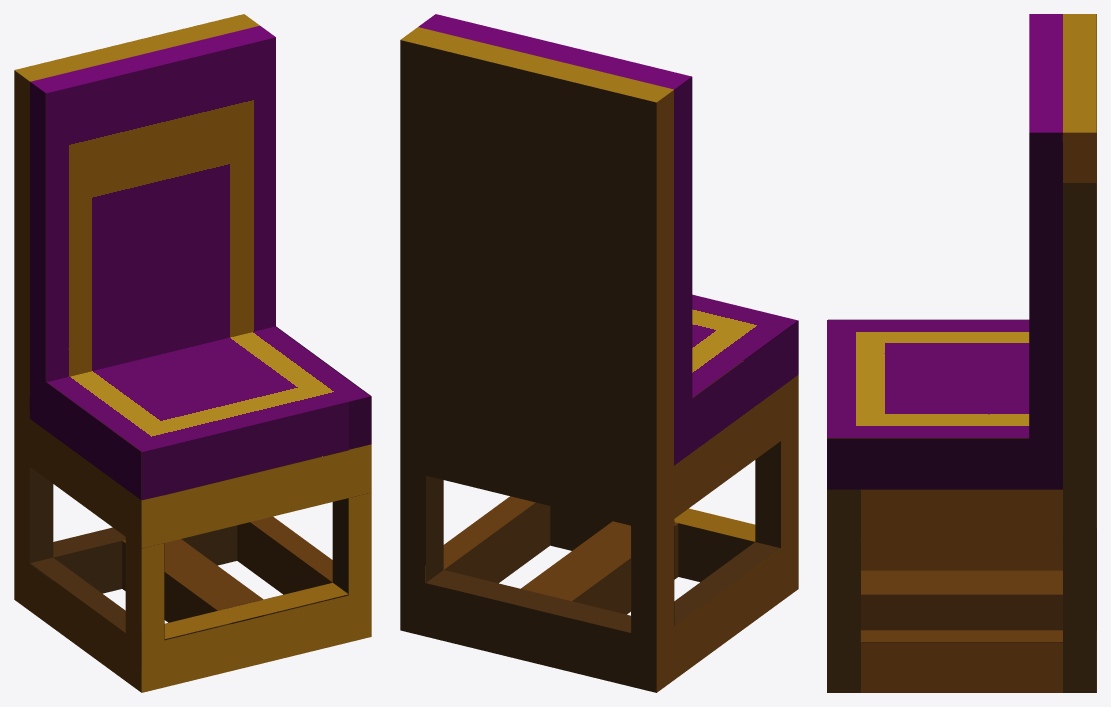
Rendered from chair_873x18.obj.
The picture shows the model from 3 angles, left to right: view 1: azimuth 30°, elevation 25°; view 2: azimuth 150°, elevation 25°; view 3: azimuth 270°, elevation 25°; orthographic projection. The views are drawn at different scales.
Visible parts, largest first — view 1: Chair; view 2: Chair; view 3: Chair.
Boxes of the visible parts, left/top/right/bottom form: Chair: left=14, top=14, right=371, bottom=692; Chair: left=400, top=14, right=798, bottom=692; Chair: left=827, top=14, right=1096, bottom=692.
Size of the model in its own units: 1.25 by 2.75 by 1.2.
